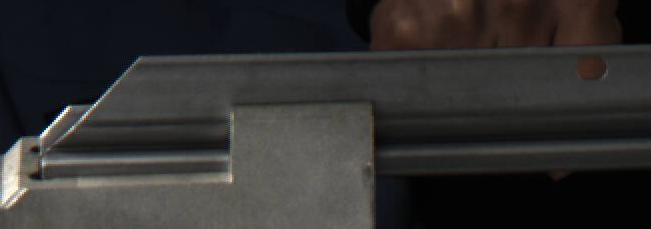cut: (30, 49, 209, 180)
holes: (575, 51, 608, 81)
